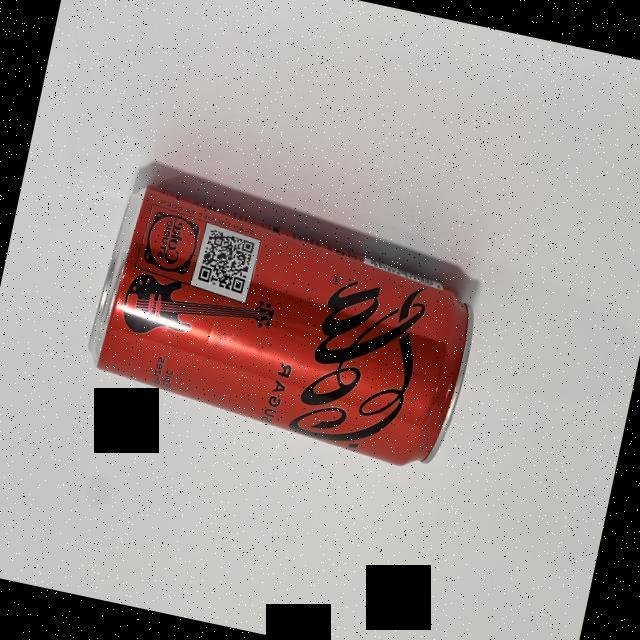can: (90, 182, 474, 465)
